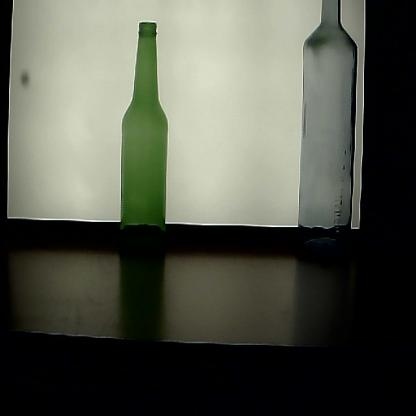Can: (294, 0, 361, 264), (113, 20, 171, 262)
